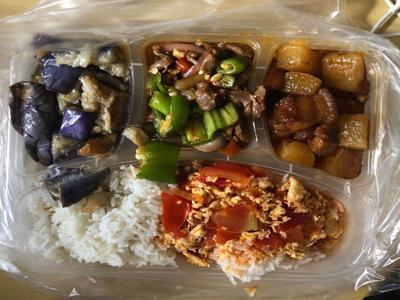cqj: (145, 41, 254, 151)
jdxhs: (180, 162, 343, 273)
rice: (40, 177, 172, 266)
sqz: (26, 39, 125, 160)
